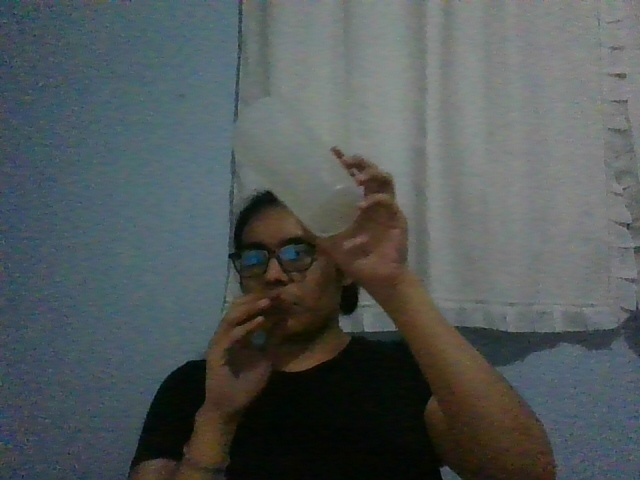vaso: (228, 96, 364, 237)
